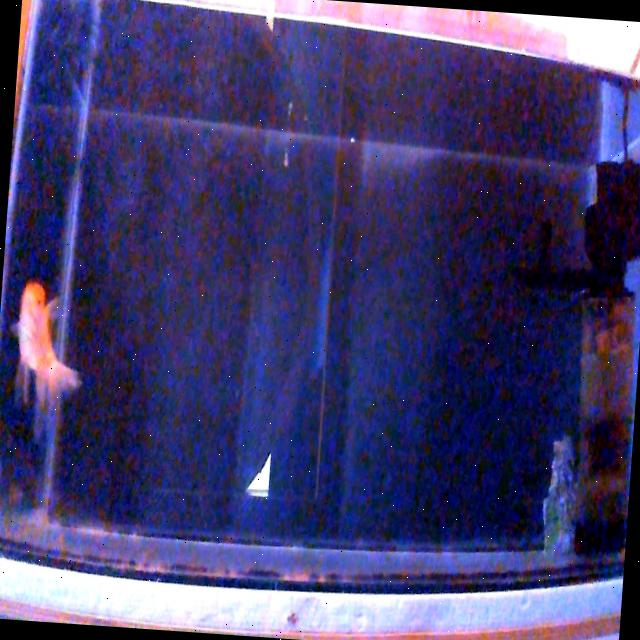fish: (16, 280, 80, 411)
